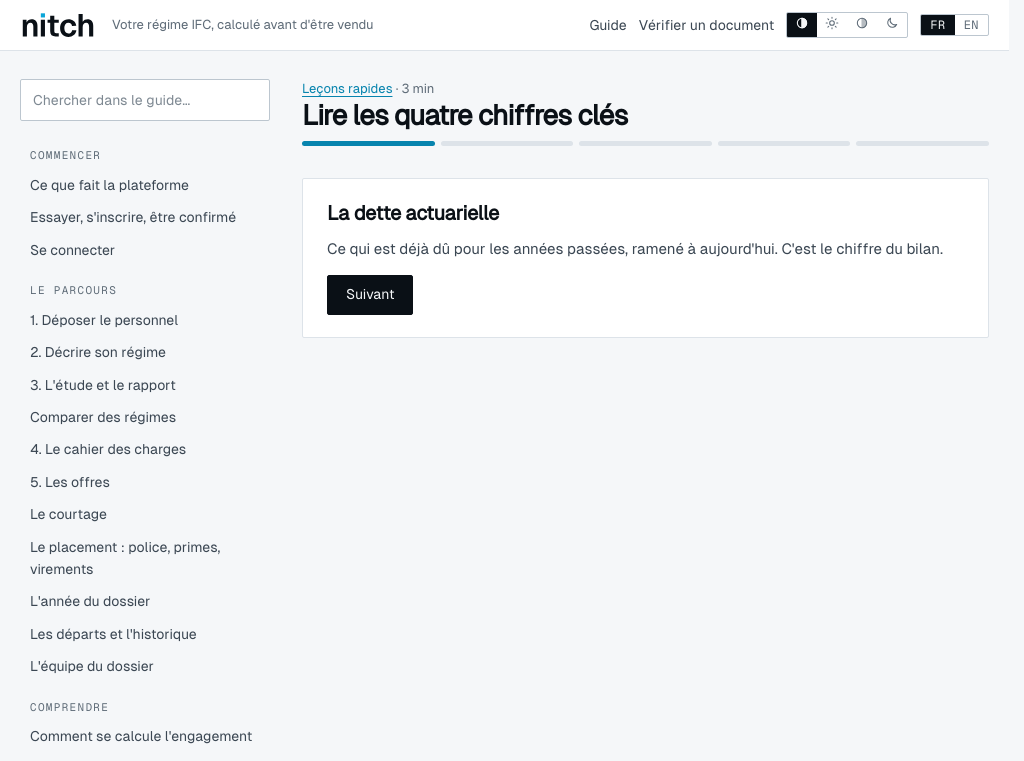
Test case: l'écran du guide › une leçon : les écrans, la question, la raison
What coordinates should you click on to do the following:
click the button "Suivant"
I would click on:
 (370, 295)
Its box is [327,275,414,315].
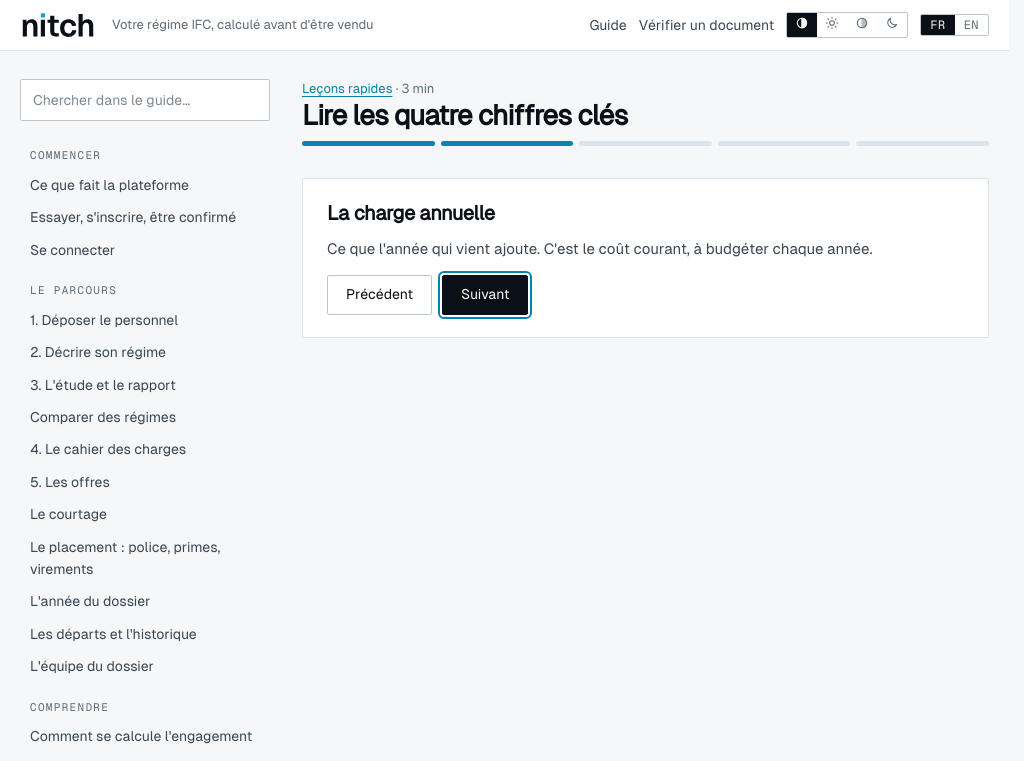
What coordinates should you click on to do the following:
click the button "Suivant"
I would click on:
 (485, 295)
Its box is [442,275,528,315].
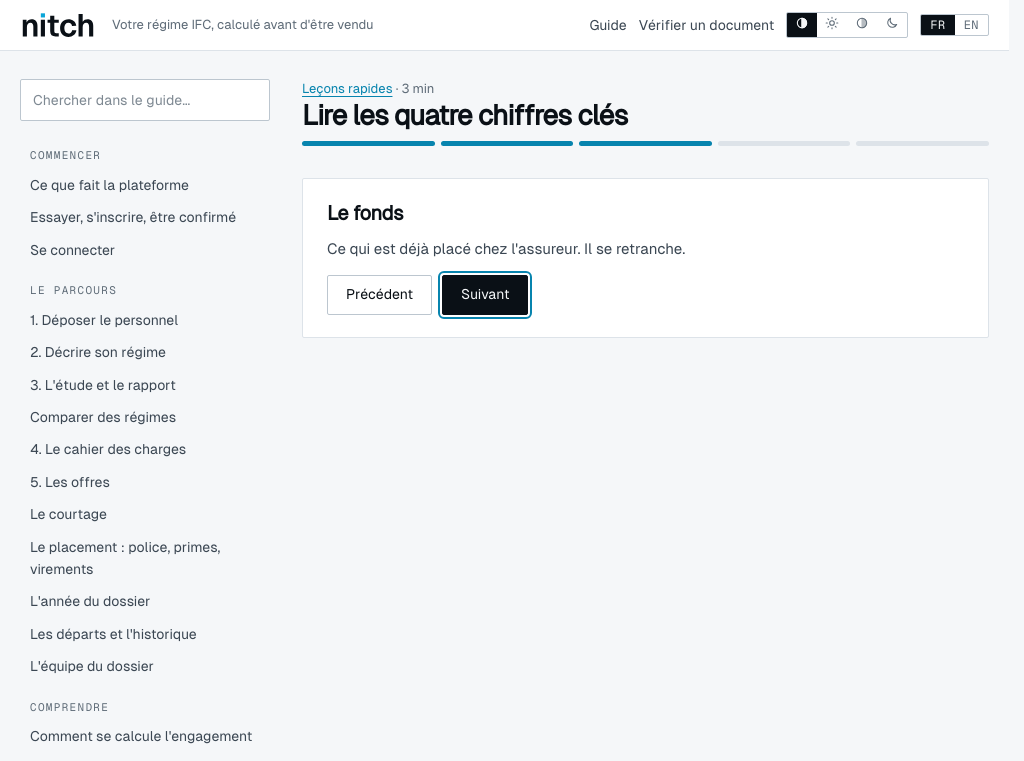
What coordinates should you click on to do the following:
click the button "Suivant"
I would click on:
 (485, 295)
Its box is [442,275,528,315].
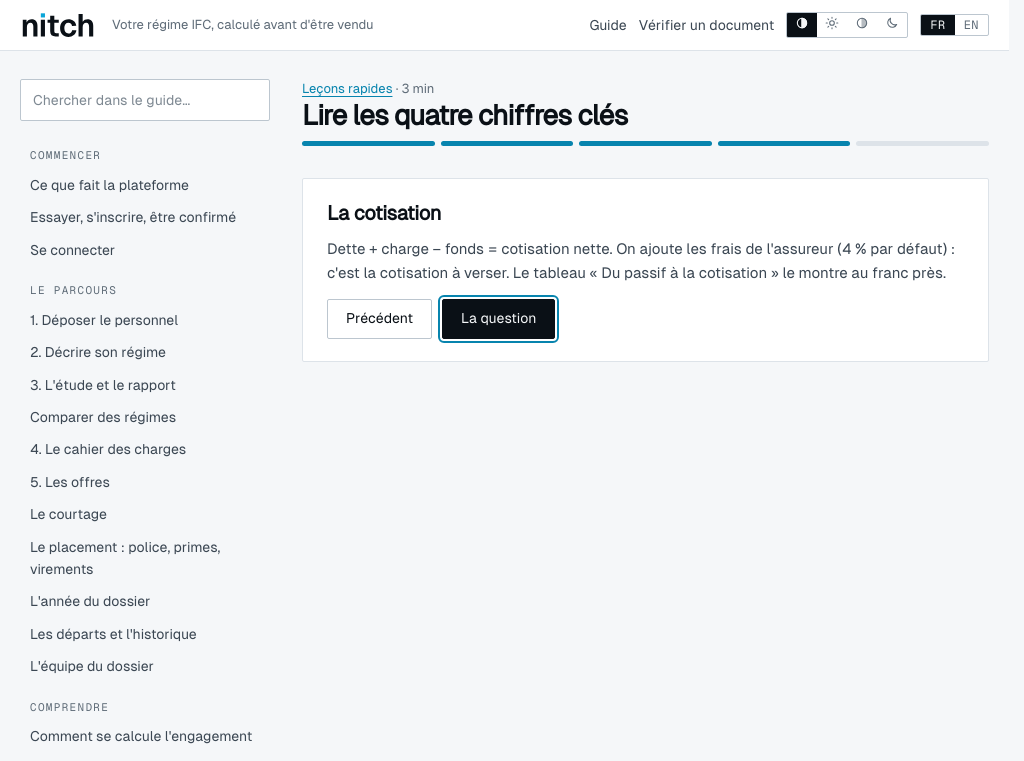
What coordinates should you click on to do the following:
click the button "La question"
I would click on:
 (499, 319)
Its box is [442,299,555,339].
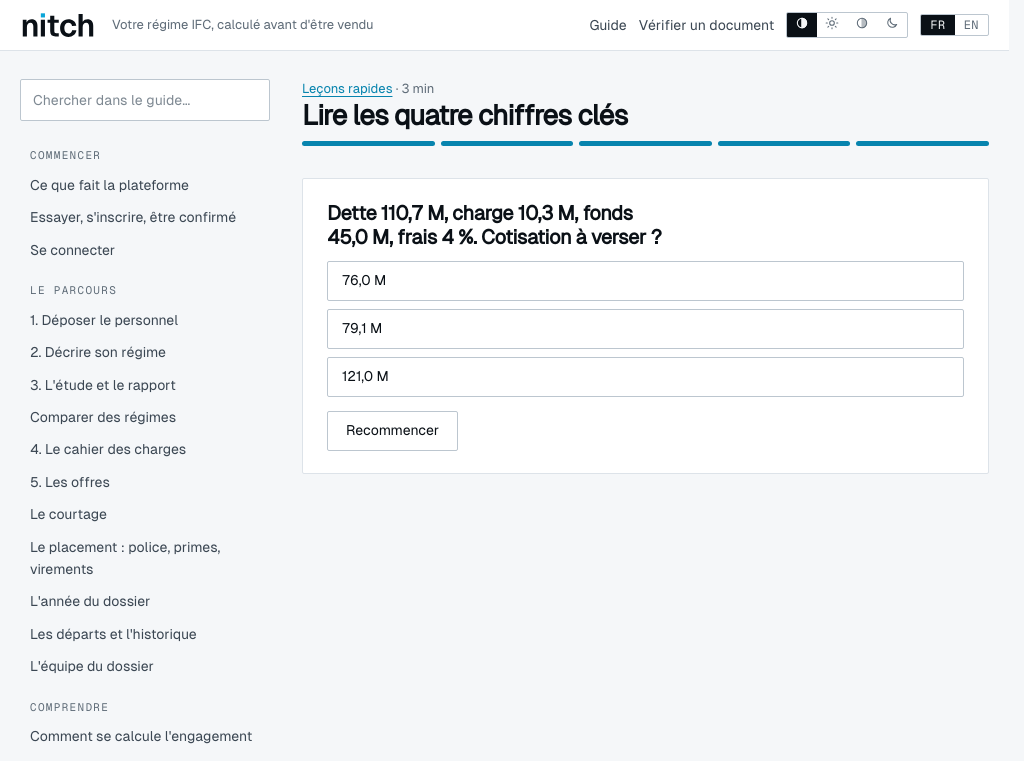
What coordinates should you click on to do the following:
click the radio button labelled "79,1 M"
I would click on:
 (362, 328)
Its box is [327,309,964,349].
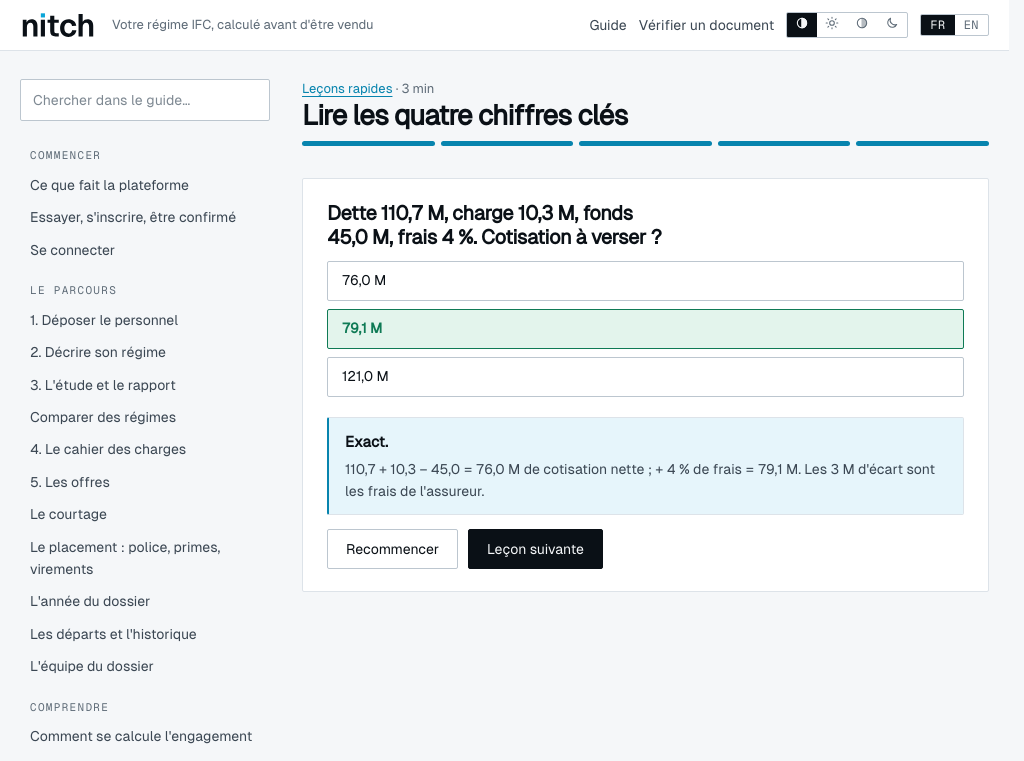
Expected: the text "Exact." is shown, [345,433,388,450]
Expected: the text "Les 3 M d'écart sont les frais" is shown, [345,461,935,499]
